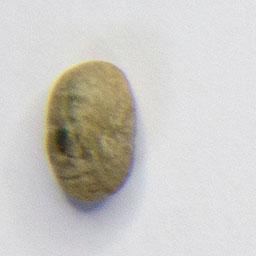defect: (38, 53, 146, 211)
